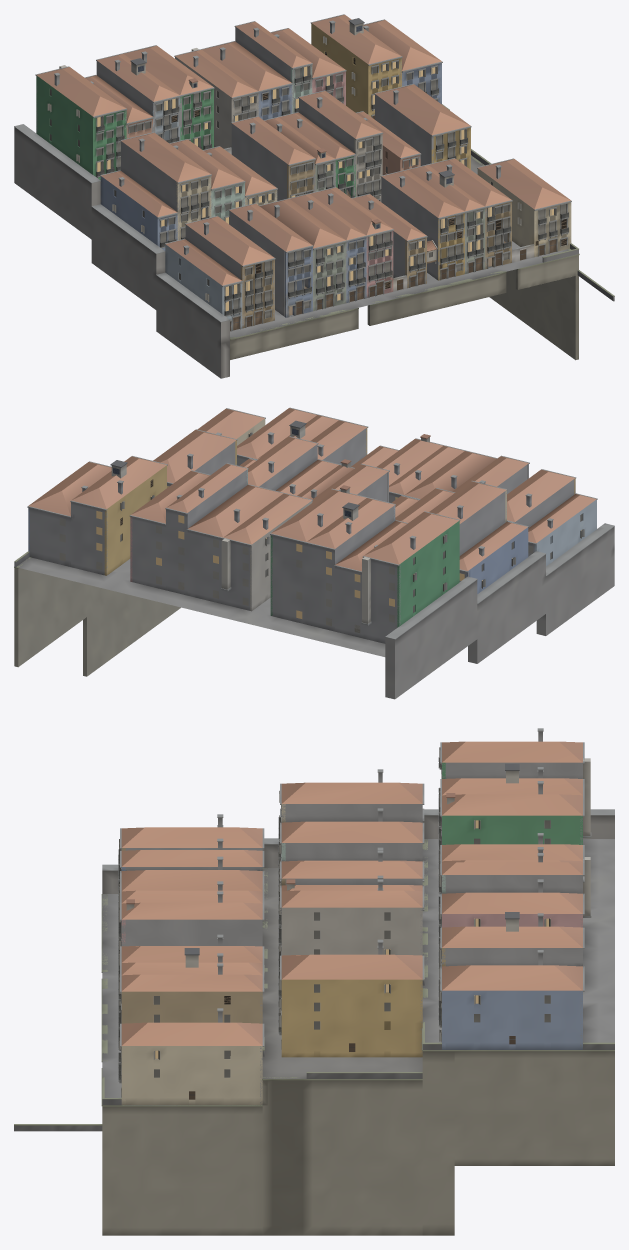
File: stairs_hi.glb
The picture shows the model from 3 angles, top to bottom: view 1: azimuth 30°, elevation 25°; view 2: azimuth 150°, elevation 25°; view 3: azimuth 270°, elevation 25°; orthographic projection. The views are drawn at different scales.
Visible parts, largest first — view 1: stairs_10_1, stairs_rampart_7, stairs_9_2, stairs_10_11, stairs_8_13, stairs_9_11, stairs_8_9, stairs_rampart_5, stairs_8_2, stairs_8_3, stairs_rampart_6, stairs_9_5 (+27 smaller); view 2: stairs_10_1, stairs_10_11, stairs_rampart_7, ground_stairs_10, stairs_10_4, stairs_10_3, stairs_10_6, stairs_east_11, stairs_rampart_6, stairs_rampart_5, stairs_10_7, stairs_10_8 (+24 smaller); view 3: stairs_east_10, stairs_east_9, stairs_east_11, stairs_9_11, stairs_10_12, stairs_8_13, stairs_9_8, ground_stairs_10, stairs_10_4, stairs_8_11, stairs_8_6, stairs_east_12 (+21 smaller).
Part boxes in pixels (x1,y1,x2,y2): stairs_10_1: (35,65,127,179); stairs_rampart_7: (14,124,100,239); stairs_9_2: (120,132,211,240); stairs_10_11: (310,14,402,119); stairs_8_13: (477,158,571,257); stairs_9_11: (374,84,471,169); stairs_8_9: (380,169,465,280); stairs_rampart_5: (156,272,229,378); stairs_8_2: (184,216,275,328); stairs_8_3: (228,203,313,317); stairs_rampart_6: (91,204,165,309); stairs_9_5: (231,116,315,200); stairs_10_1: (361,511,460,643); stairs_10_11: (70,456,167,575); stairs_rampart_7: (385,576,477,699); ground_stairs_10: (16,557,385,656); stairs_10_4: (270,485,366,624); stairs_10_3: (305,497,395,631); stairs_10_6: (221,493,312,611); stairs_east_11: (14,557,86,667); stairs_rampart_6: (468,551,545,663); stairs_rampart_5: (536,523,614,635); stairs_10_7: (186,484,283,604); stairs_10_8: (165,463,248,595); stairs_east_10: (262,1077,422,1235); stairs_east_9: (102,1105,262,1235); stairs_east_11: (454,1050,614,1165); stairs_9_11: (278,939,424,1057); stairs_10_12: (438,950,584,1049); stairs_8_13: (118,1008,264,1104); stairs_9_8: (278,879,424,971); ground_stairs_10: (422,839,614,1042); stairs_10_4: (438,781,584,877); stairs_8_11: (118,963,264,1043); stairs_8_6: (118,891,264,974); stairs_east_12: (422,1050,454,1235).
Bounding box in the file's own units: 80.35 × 52.09 × 93.82.
